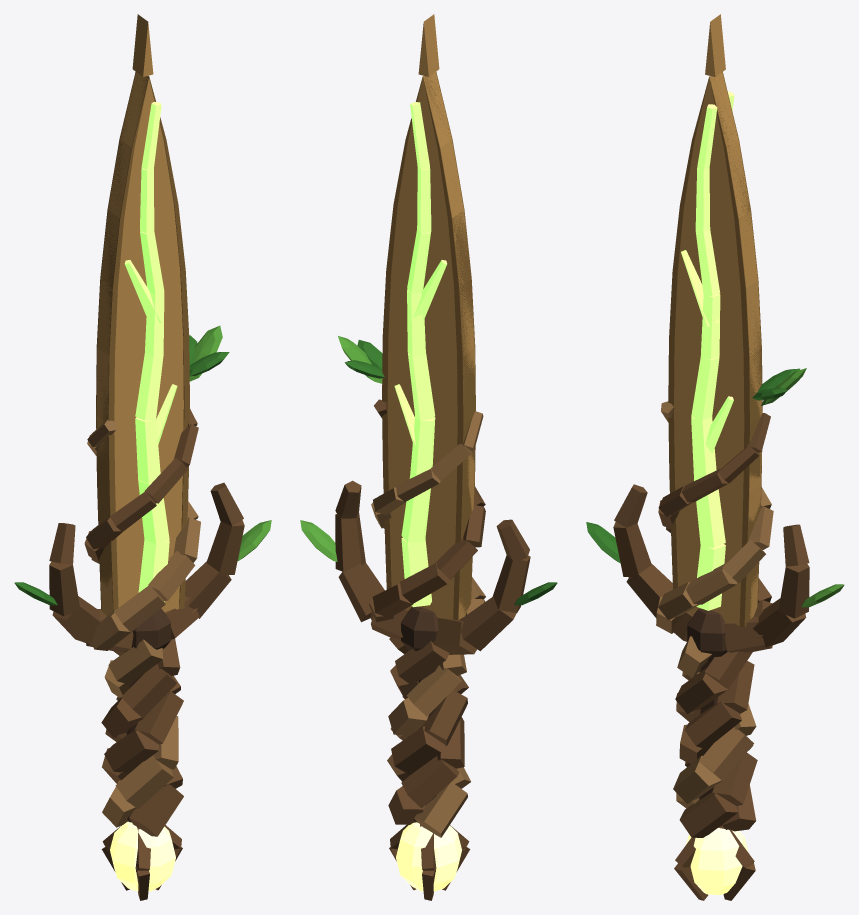
Rendered from roots_dagger.glb.
3 renders of one model, left to right at view 1: azimuth 30°, elevation 25°; view 2: azimuth 150°, elevation 25°; view 3: azimuth 330°, elevation 25°, orthographic.
Visible parts, largest first — view 1: roots_dagger; view 2: roots_dagger; view 3: roots_dagger.
Boxes of the visible parts, x1=… form: roots_dagger: x1=14, y1=14, x2=271, y2=900; roots_dagger: x1=300, y1=14, x2=557, y2=900; roots_dagger: x1=586, y1=14, x2=844, y2=900.
Size of the model in its own units: 0.3293 by 1.07 by 0.1072.
